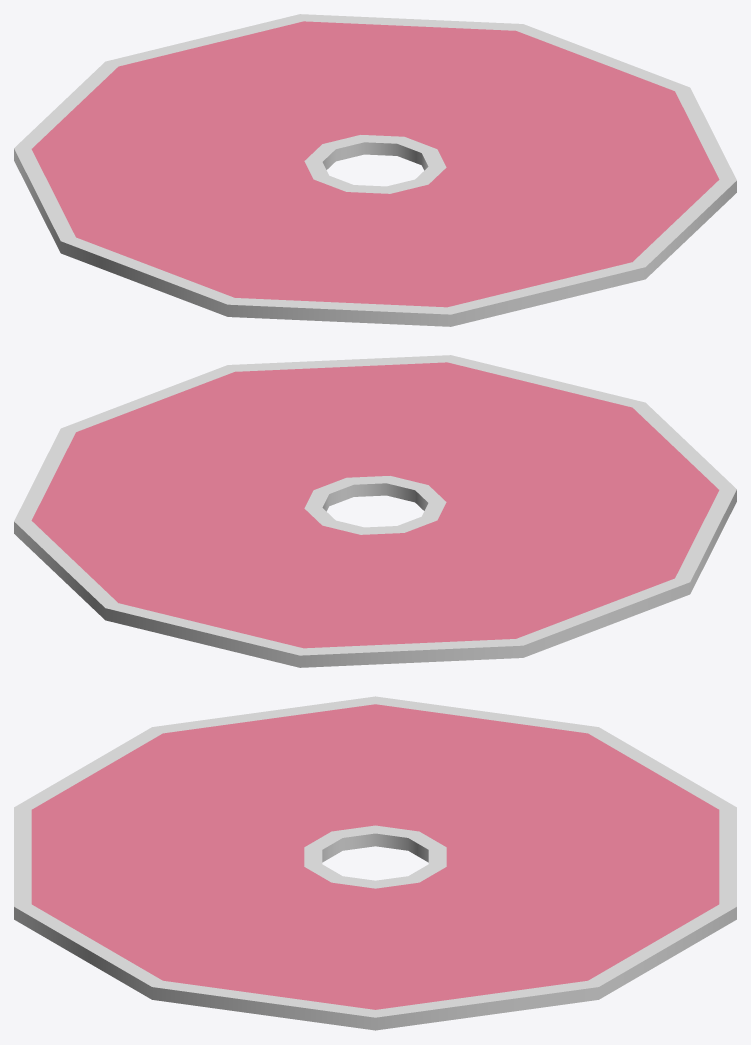
Rendered from 63_prop_CD1.FBX.
3 views of the same model, one above another, from view 1: azimuth 30°, elevation 25°; view 2: azimuth 150°, elevation 25°; view 3: azimuth 270°, elevation 25° (orthographic). The views are drawn at different scales.
Visible parts, largest first — view 1: prop_CD1; view 2: prop_CD1; view 3: prop_CD1.
Part boxes in pixels (left/top/right/bottom): prop_CD1: left=14, top=14, right=736, bottom=326; prop_CD1: left=14, top=355, right=736, bottom=667; prop_CD1: left=14, top=696, right=736, bottom=1030.
Size of the model in its own units: 13.84 by 0.2576 by 13.16.
